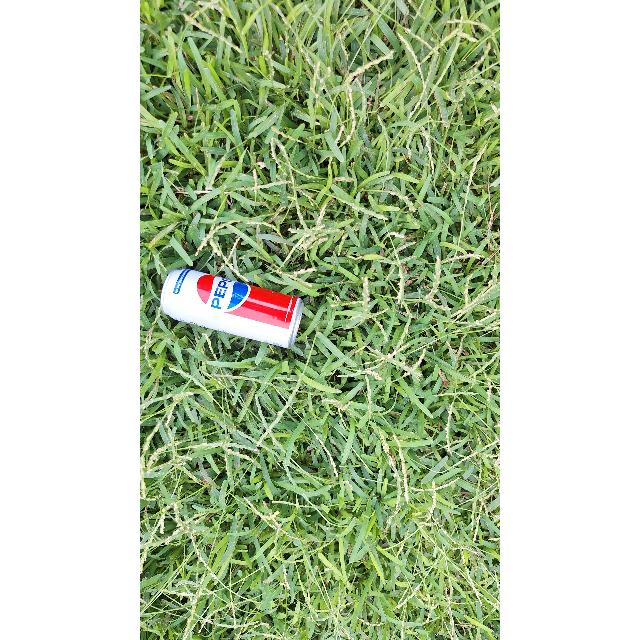Pepsi Retro: (162, 263, 302, 345)
